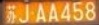J: (19, 5, 29, 23)
